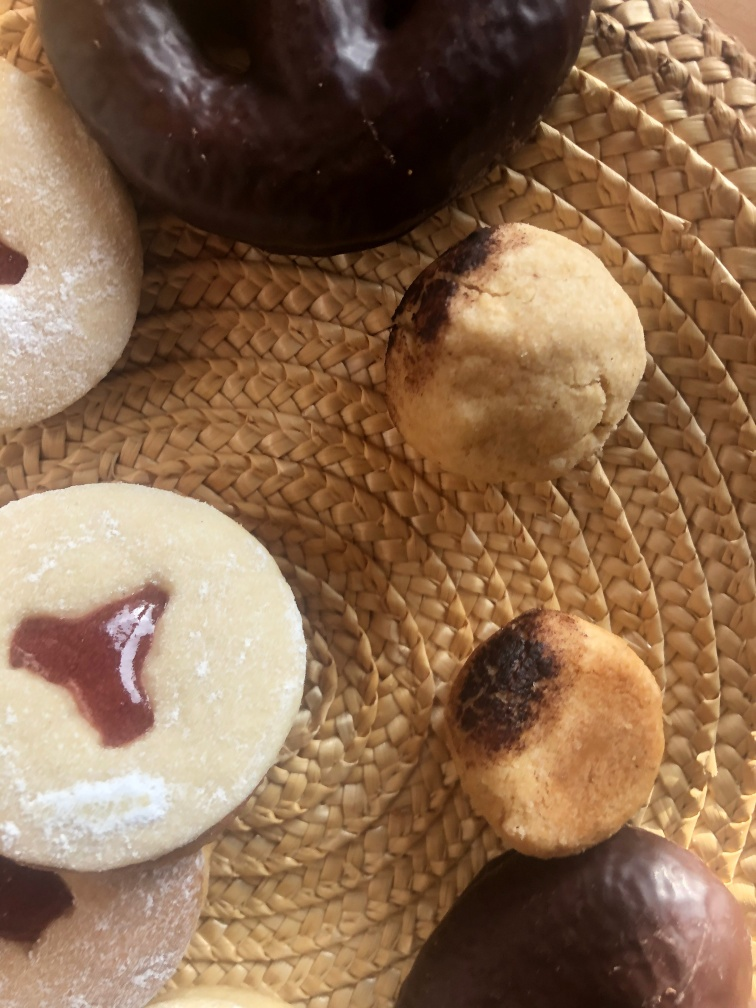bretzel: (33, 1, 594, 256)
christmas shortbread with jam: (1, 476, 321, 882), (1, 54, 155, 441), (1, 824, 216, 1000)
snowball: (392, 220, 648, 477), (435, 600, 669, 861)
